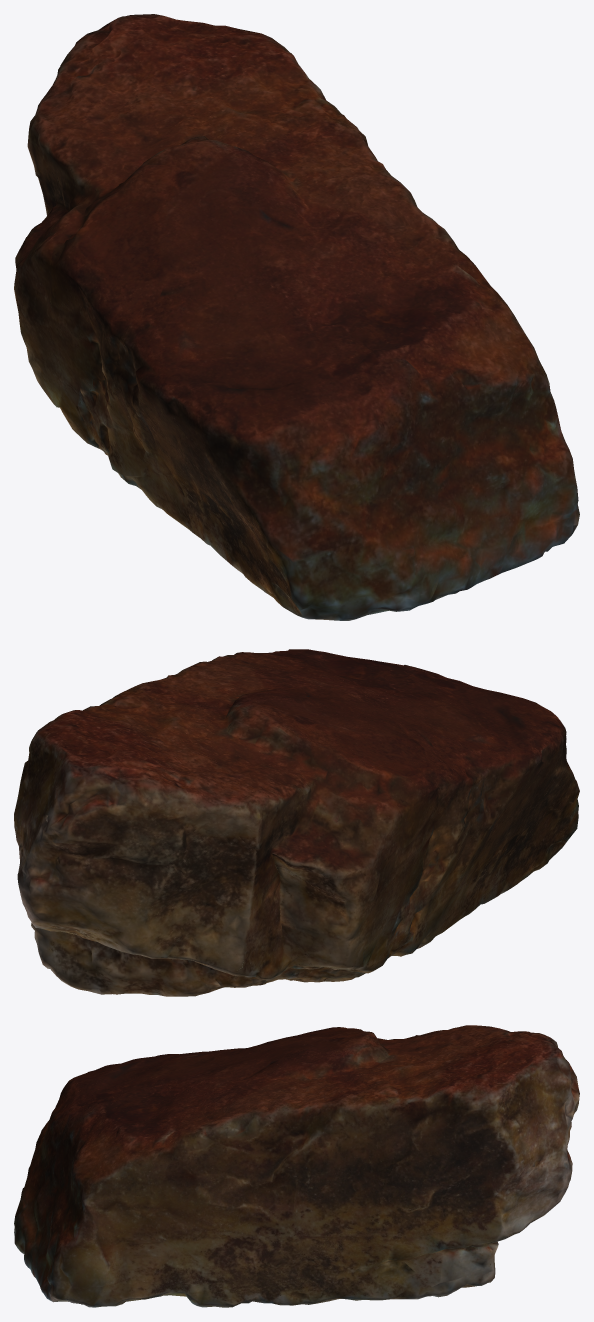
The model's file is rock_07.glb.
The picture shows the model from 3 angles, top to bottom: view 1: azimuth 30°, elevation 25°; view 2: azimuth 150°, elevation 25°; view 3: azimuth 270°, elevation 25°; orthographic projection. The views are drawn at different scales.
Visible parts, largest first — view 1: rock_07; view 2: rock_07; view 3: rock_07.
Boxes of the visible parts, bbox=[...] form: rock_07: bbox=[14, 14, 579, 620]; rock_07: bbox=[14, 649, 579, 996]; rock_07: bbox=[14, 1025, 579, 1307].
Bounding box in the file's own units: 0.1689 × 0.1437 × 0.3203.
1 material, 1 textured.
